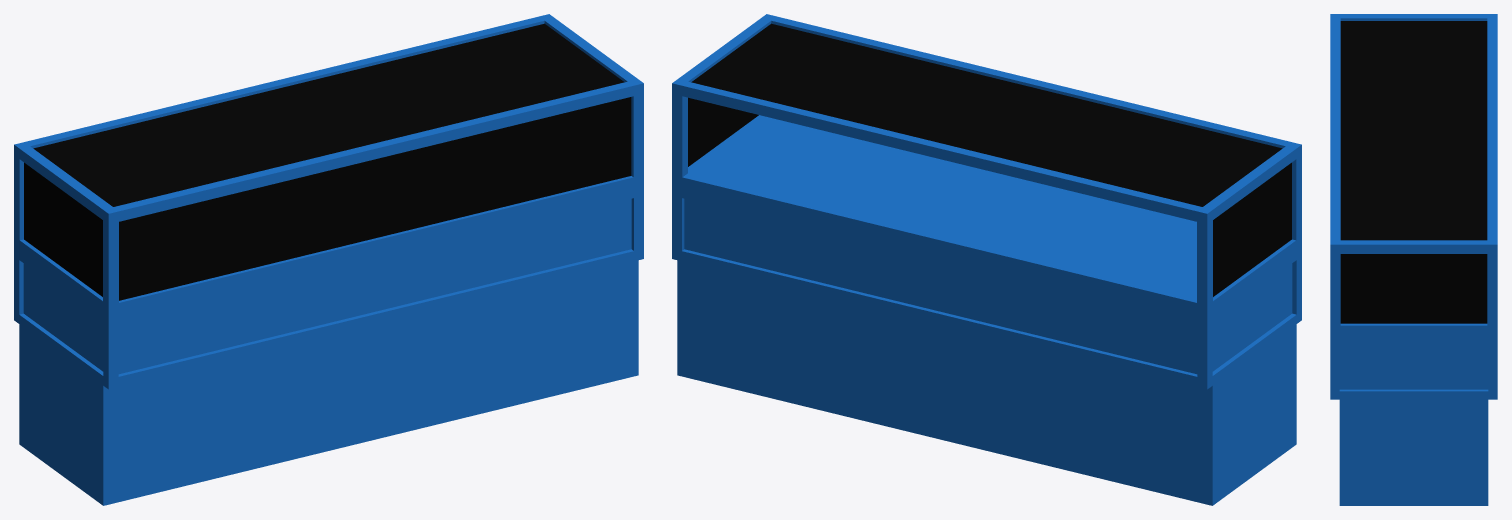
The model's file is SM_showcase.fbx.
3 renders of one model, left to right at view 1: azimuth 30°, elevation 25°; view 2: azimuth 150°, elevation 25°; view 3: azimuth 270°, elevation 25°, orthographic. The views are drawn at different scales.
Parts seen in each view (by area): view 1: Cube_14; view 2: Cube_14; view 3: Cube_14.
Part boxes in pixels (bbox=[...]): Cube_14: bbox=[14, 14, 643, 505]; Cube_14: bbox=[672, 14, 1301, 505]; Cube_14: bbox=[1330, 14, 1497, 505].
Bounding box in the file's own units: 200 × 106 × 61.25.
